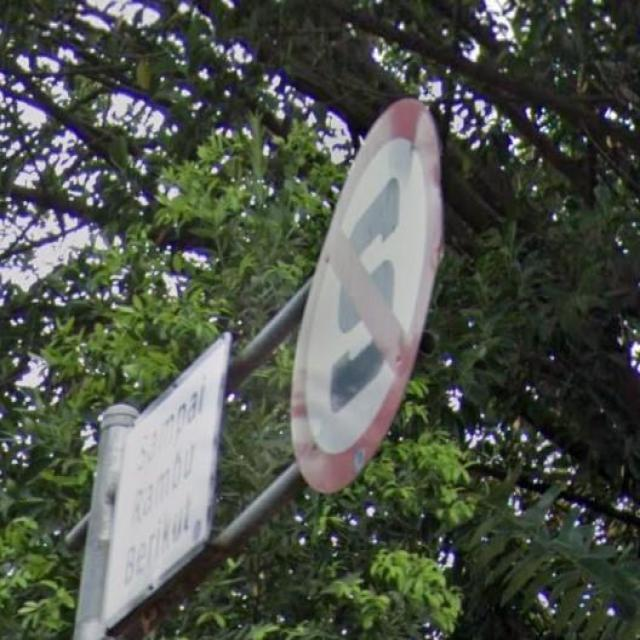traffic sign: (291, 98, 442, 492)
